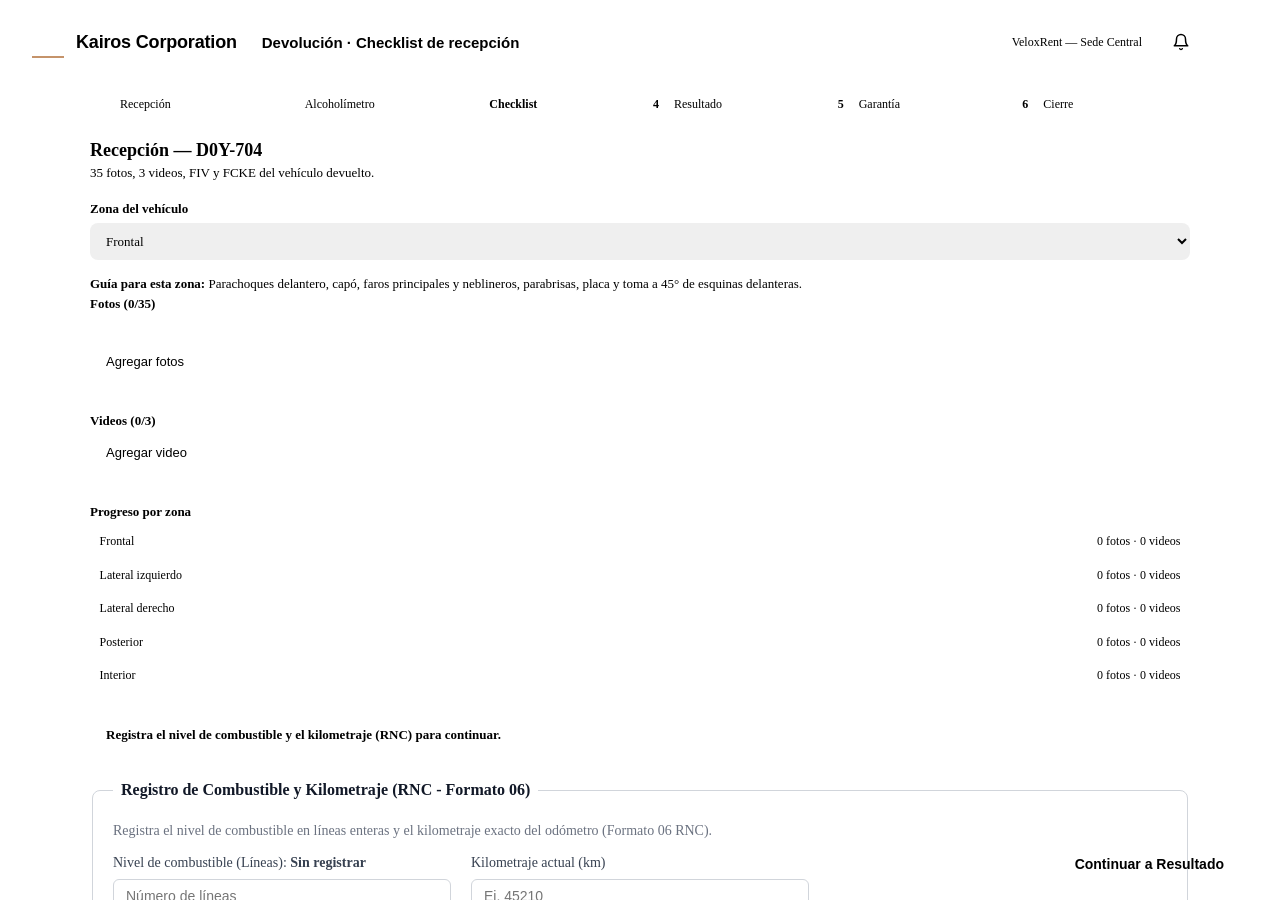
ChecklistScreen — solicitar eliminación de evidencia › D3: muestra la guia de toma fotografica segun la zona seleccionada en devolucion
This screenshot has width=1280, height=900.
Expected: the element with test id "zone-photo-guide" is shown, [90,276,802,291]
Expected: the element with test id "zone-photo-guide" shows "Parachoques delantero, capó", [208,276,802,291]
Select "Lateral derecho" in the dropdown labelled "Zona del vehículo" at (640, 242), box [90,223,1190,260]
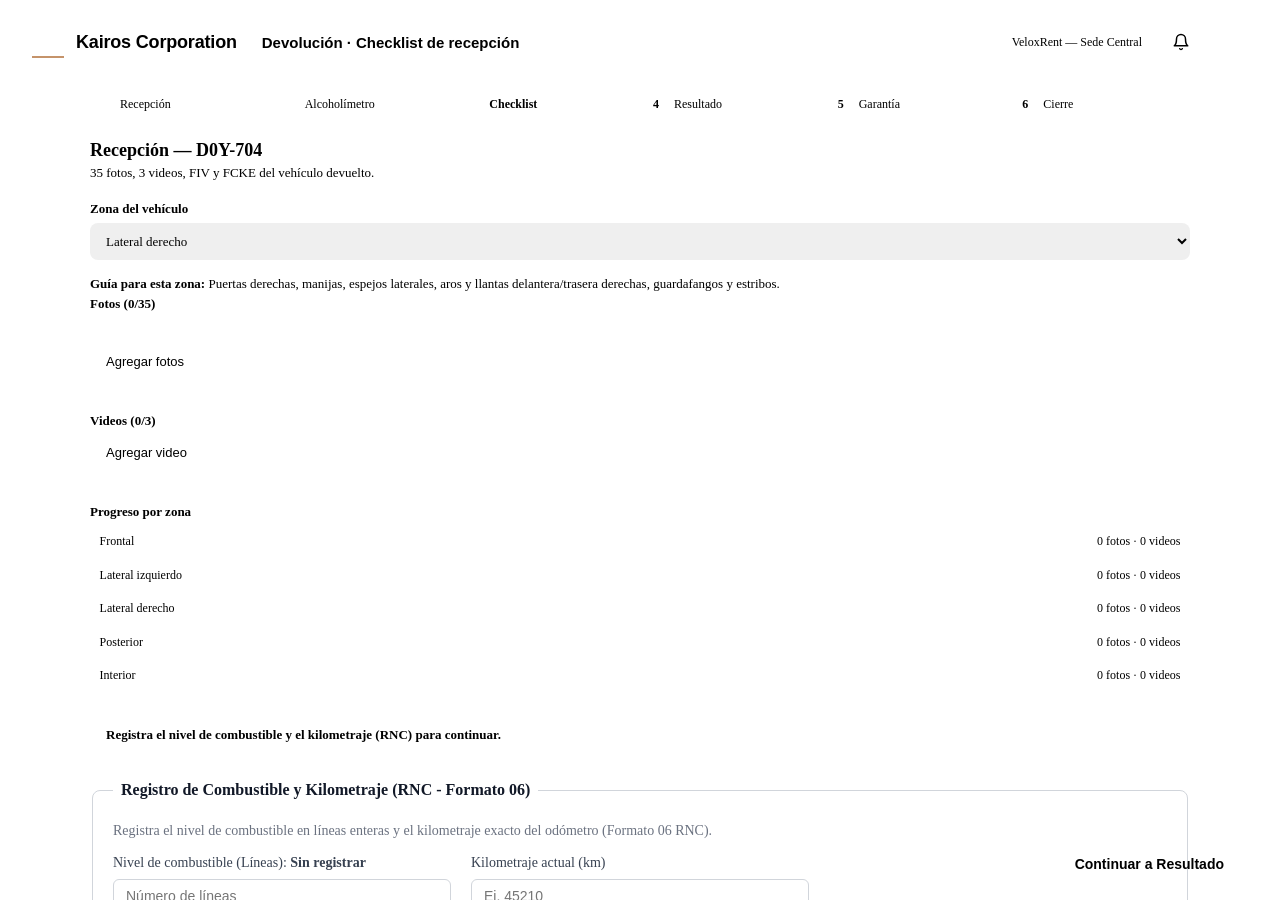
Now the element with test id "zone-photo-guide" shows "Puertas derechas, manijas", box [208,276,780,291]
Select "Posterior" in the dropdown labelled "Zona del vehículo" at (640, 242), box [90,223,1190,260]
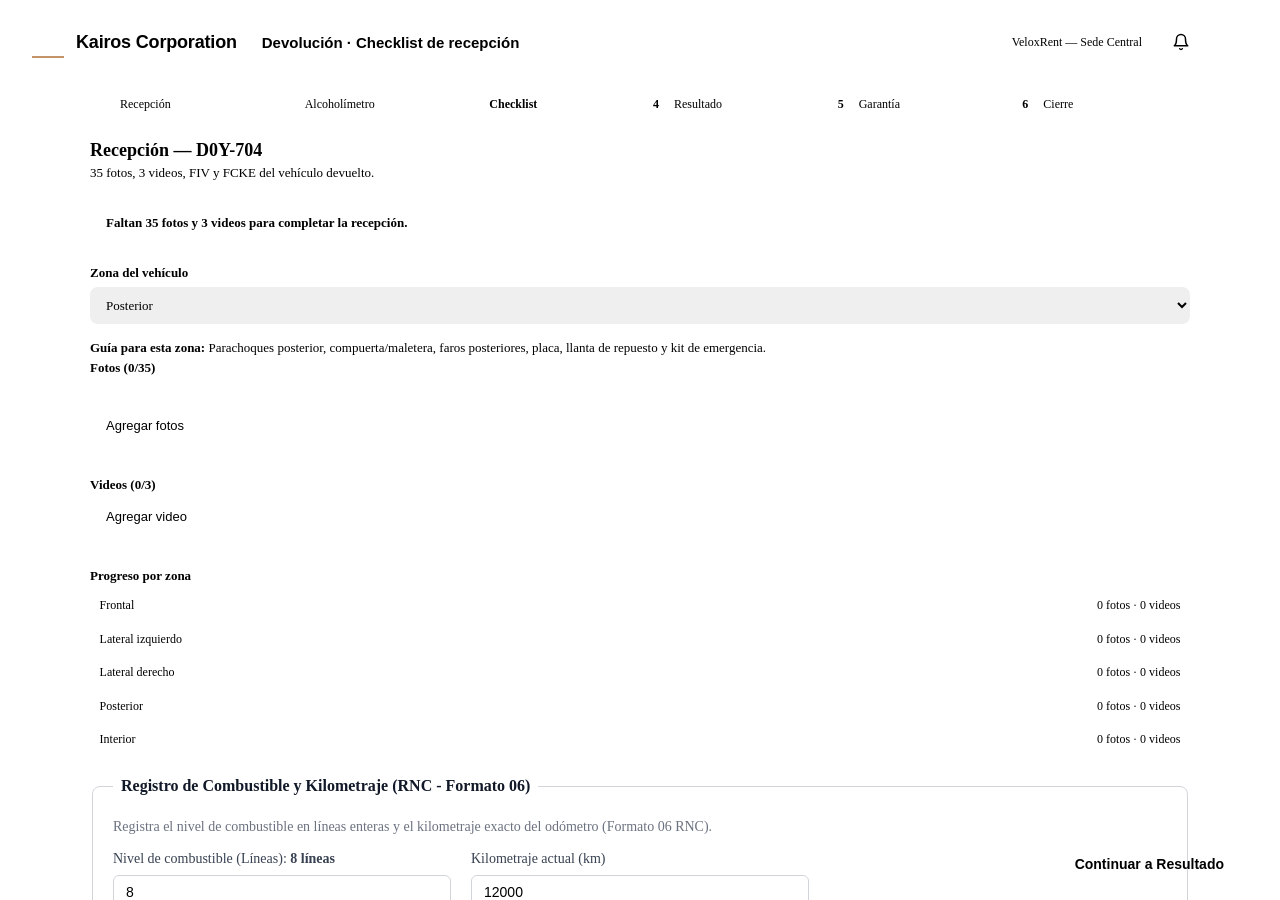
Now the element with test id "zone-photo-guide" shows "Parachoques posterior, compuerta", box [208,340,766,355]
